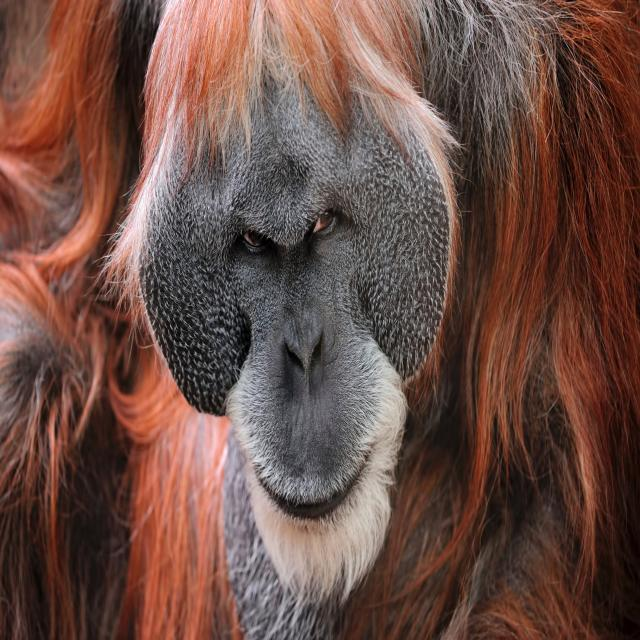Orangutan: (2, 0, 640, 640)
